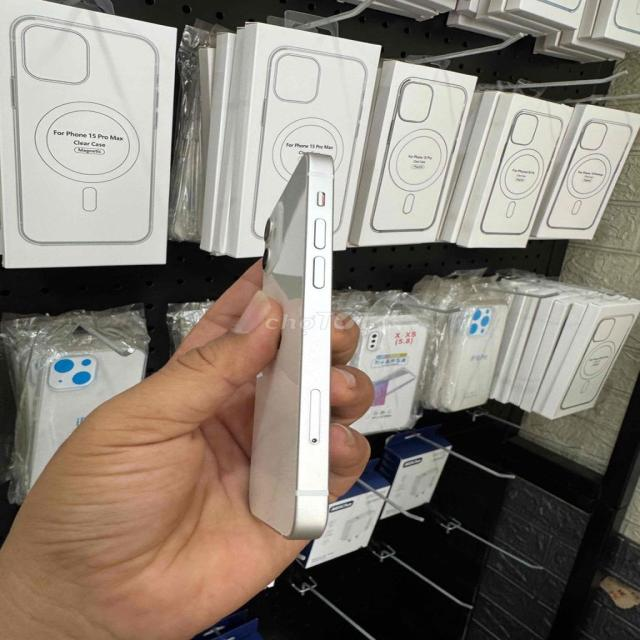gen_12_13: (248, 152, 356, 542)
